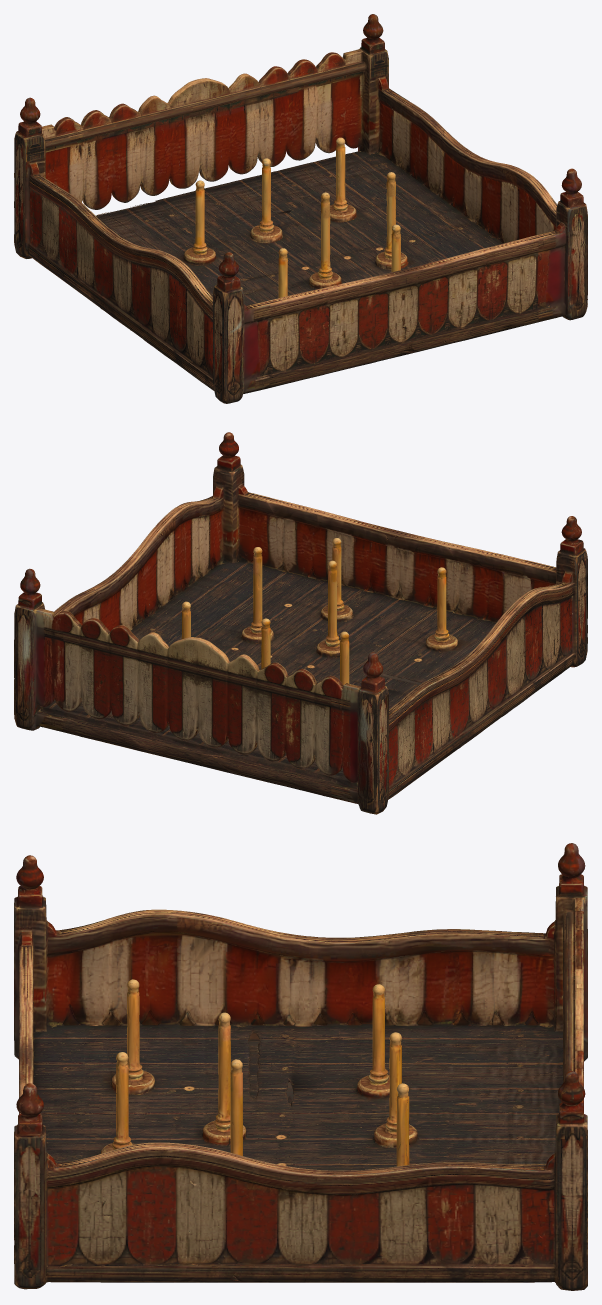
File: Meshy_AI_Rustic_Carnival_Pegbo_0511180134_texture.fbx
3 renders of one model, top to bottom at view 1: azimuth 30°, elevation 25°; view 2: azimuth 150°, elevation 25°; view 3: azimuth 270°, elevation 25°, orthographic. The views are drawn at different scales.
Visible parts, largest first — view 1: Mesh_0; view 2: Mesh_0; view 3: Mesh_0.
Part boxes in pixels (x1,y1,x2,y2): Mesh_0: (14, 14, 587, 403); Mesh_0: (14, 432, 587, 814); Mesh_0: (14, 843, 587, 1290).
Size of the model in its own units: 191 by 78.39 by 191.
Materials: 1 (1 with a texture image).
